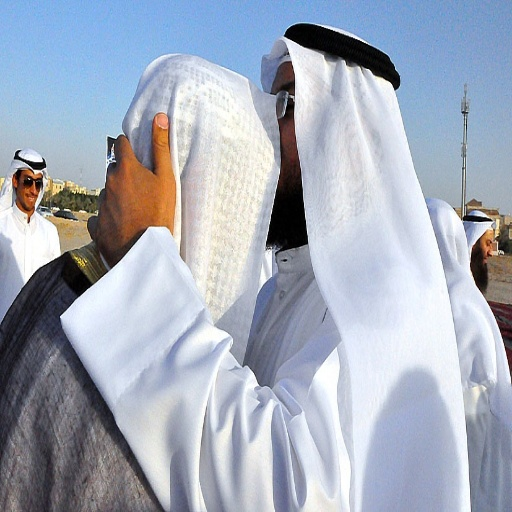hand: (96, 99, 184, 260)
